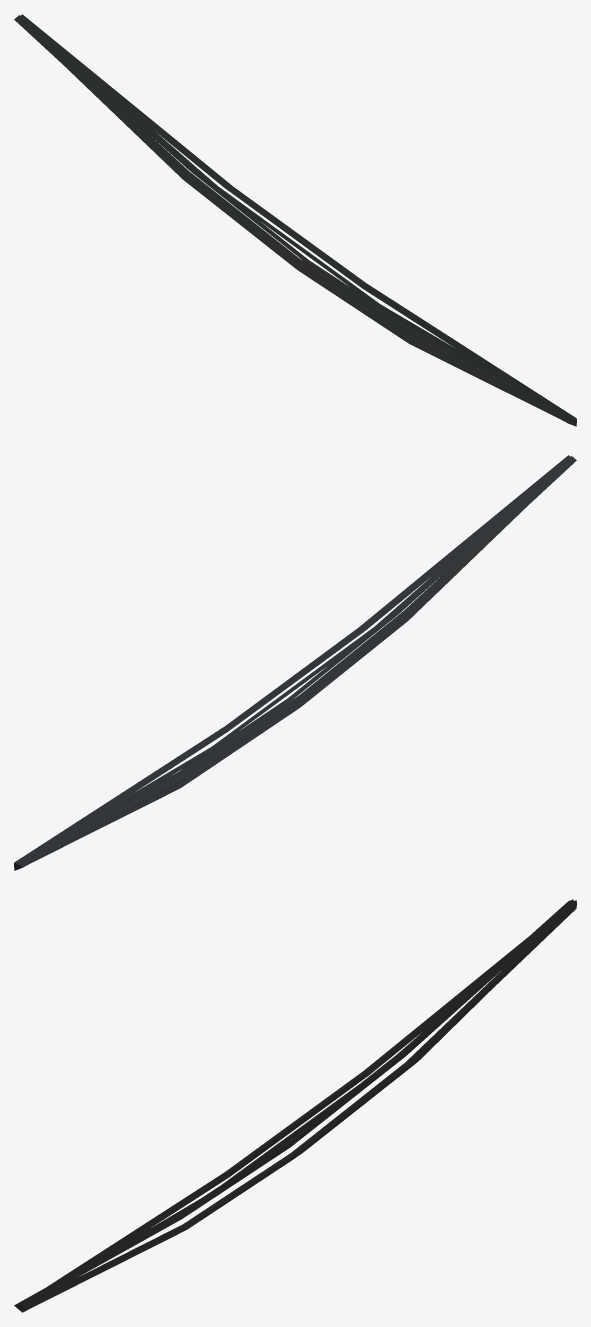
File: SM_Prop_Powerline_04.glb
The picture shows the model from 3 angles, top to bottom: view 1: azimuth 30°, elevation 25°; view 2: azimuth 150°, elevation 25°; view 3: azimuth 330°, elevation 25°; orthographic projection.
Parts seen in each view (by area): view 1: SM_Prop_Powerline_04; view 2: SM_Prop_Powerline_04; view 3: SM_Prop_Powerline_04.
Boxes of the visible parts, <box> form: SM_Prop_Powerline_04: <box>14,14,576,426</box>; SM_Prop_Powerline_04: <box>14,455,576,870</box>; SM_Prop_Powerline_04: <box>14,899,576,1312</box>.
Size of the model in its own units: 0.1366 by 0.4194 by 7.7.
Materials: 1 (1 with a texture image).
